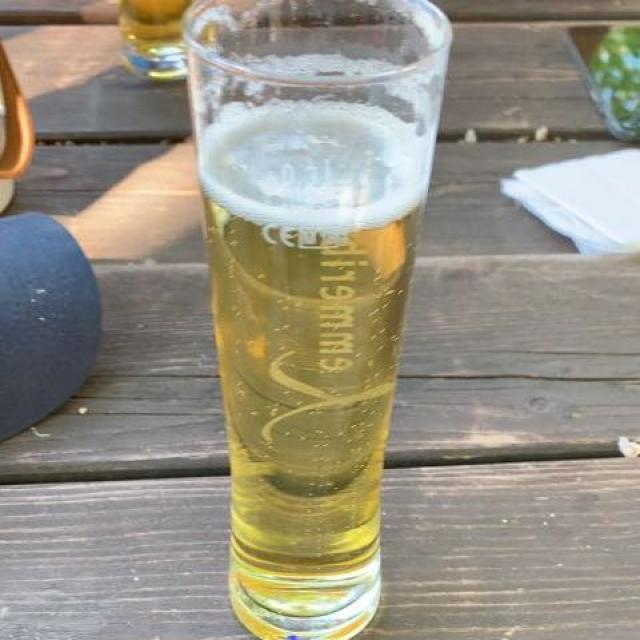beer: (202, 118, 423, 599)
